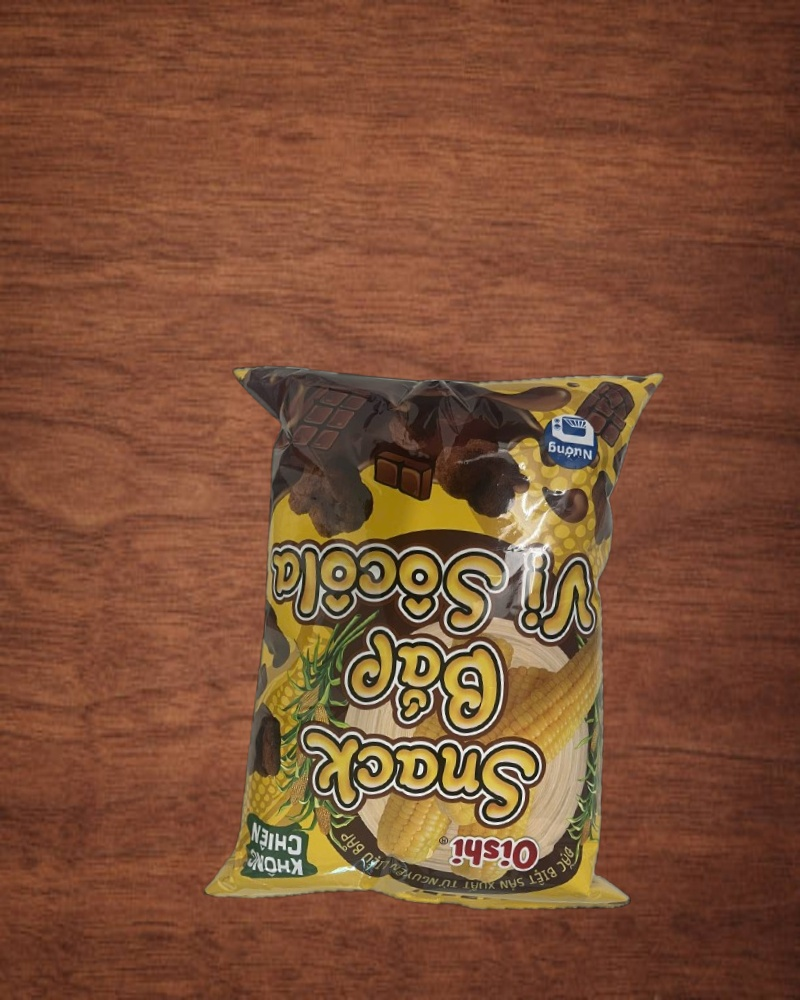Snack socola: (189, 340, 676, 932)
